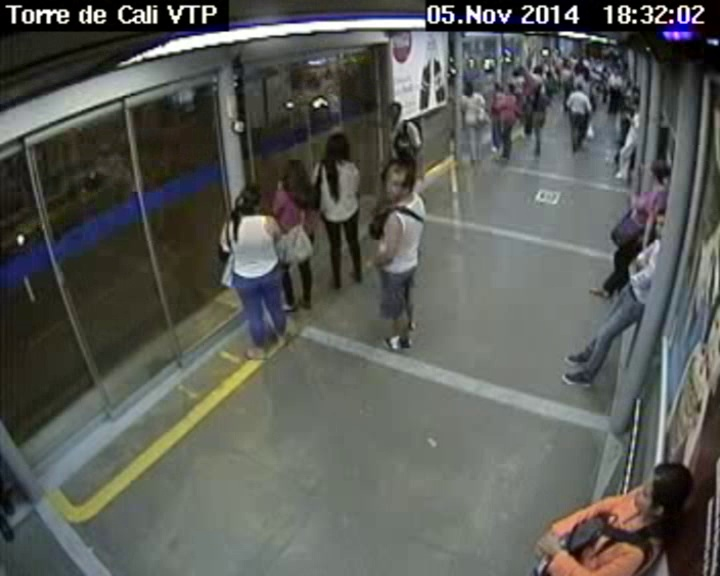person: (630, 450, 693, 526), (275, 152, 313, 196), (388, 167, 417, 213), (232, 179, 267, 215), (640, 155, 677, 188), (321, 127, 351, 166), (649, 208, 680, 243), (380, 95, 404, 119), (465, 79, 479, 95), (529, 82, 547, 94), (630, 99, 645, 112), (504, 83, 516, 95), (574, 82, 584, 93), (611, 68, 619, 77), (565, 61, 572, 69)
